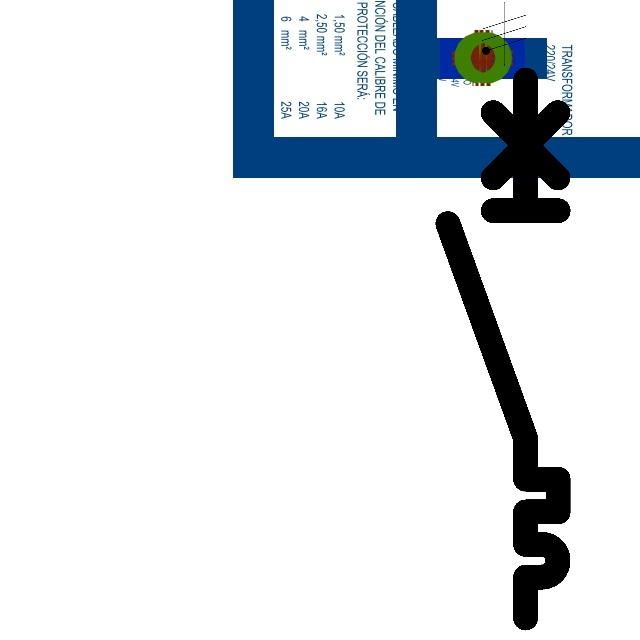interruptor_termomagnetico: (434, 65, 572, 631)
